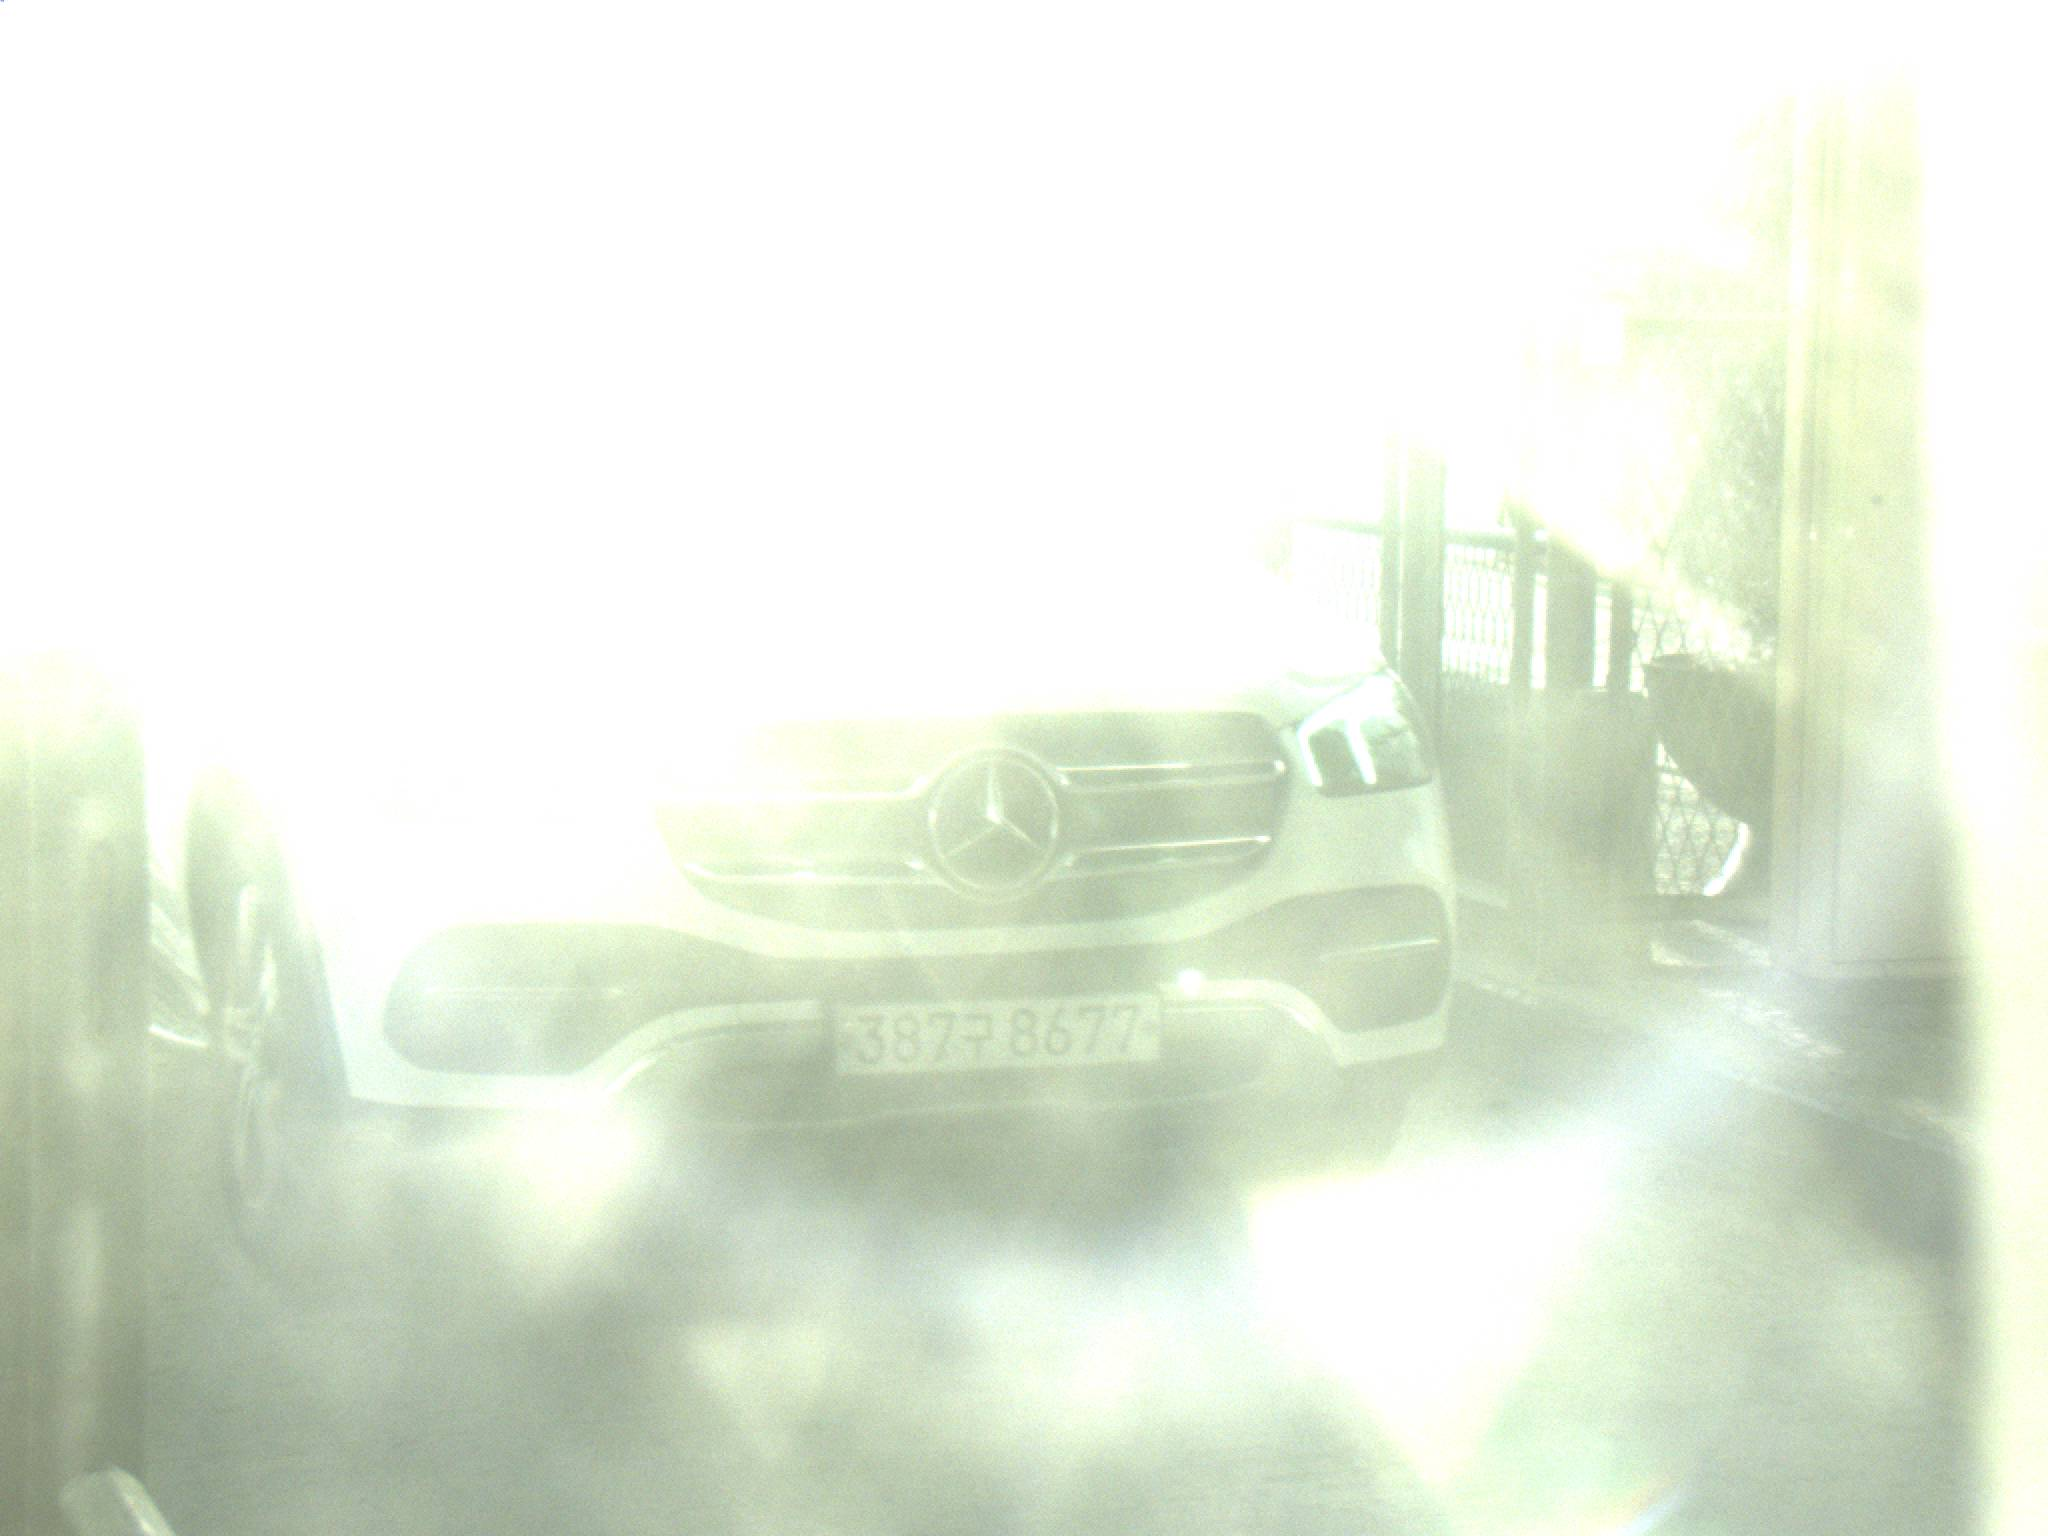car: (61, 459, 1470, 1313)
plate: (821, 984, 1161, 1081)
